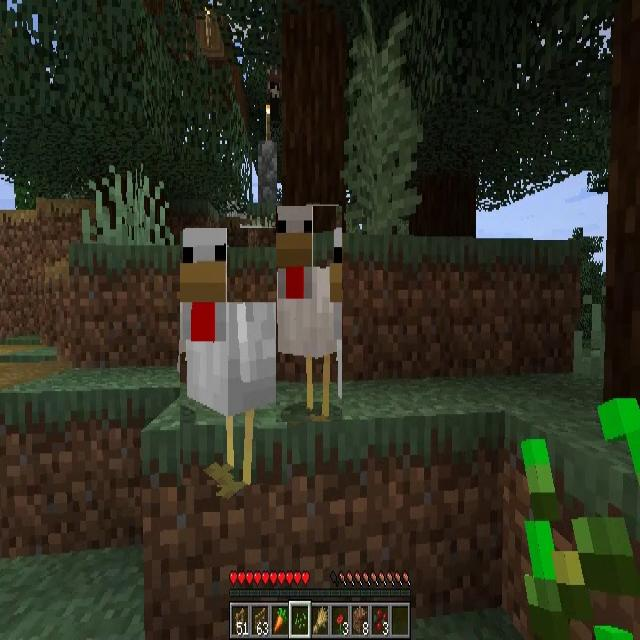duck: (180, 228, 287, 485), (276, 206, 342, 422)
